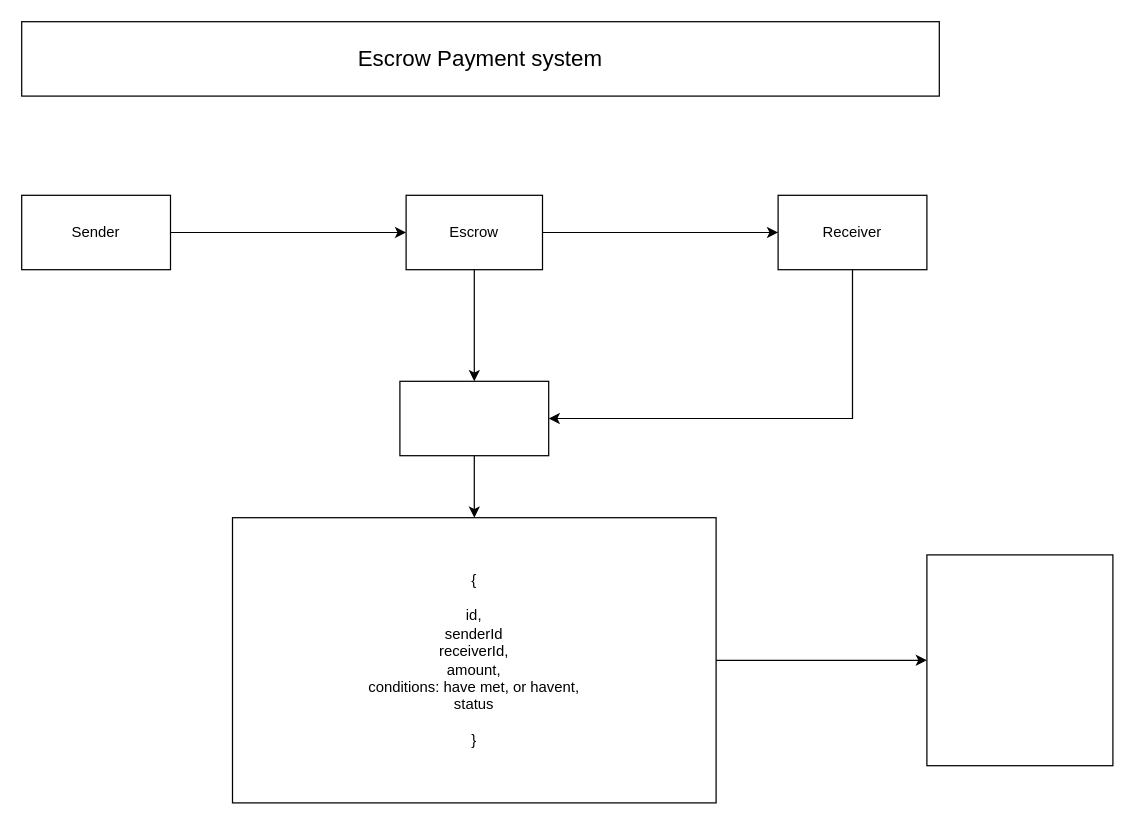
The diagram is 1135 pixels wide and 825 high, and some of its shapes have lost their labels. The centre of each missing label's shape, as x and y in pixels:
"halted in progress success cancelled" belongs at point 1019,660.
"transfer" belongs at point 474,418.
